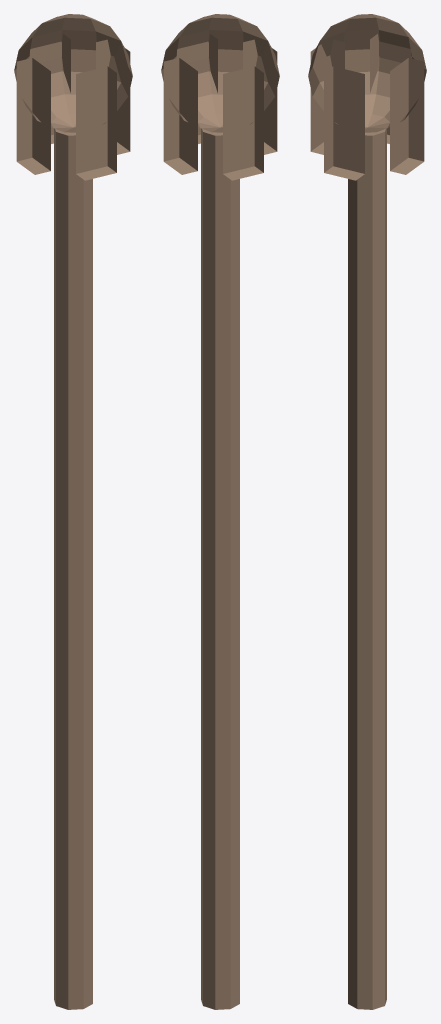
File: weapon_staff_wizard.glb
3 renders of one model, left to right at view 1: azimuth 30°, elevation 25°; view 2: azimuth 210°, elevation 25°; view 3: azimuth 330°, elevation 25°, orthographic.
Visible parts, largest first — view 1: WeaponStaffWizard_Node; view 2: WeaponStaffWizard_Node; view 3: WeaponStaffWizard_Node.
Part boxes in pixels (box(x1,y1,x2,y2)): WeaponStaffWizard_Node: box(14, 14, 132, 1009); WeaponStaffWizard_Node: box(161, 14, 279, 1009); WeaponStaffWizard_Node: box(308, 14, 426, 1009).
Size of the model in its own units: 0.13 by 1.18 by 0.1236.
